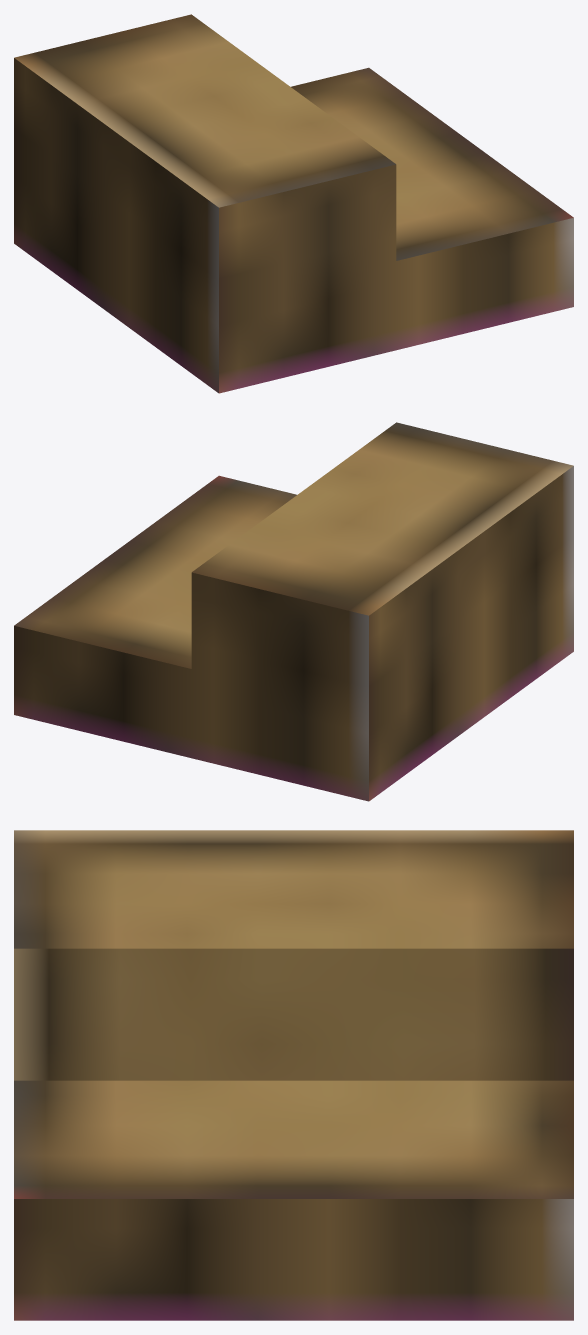
File: Tree_Destroy_Step8.fbx
3 renders of one model, top to bottom at view 1: azimuth 30°, elevation 25°; view 2: azimuth 150°, elevation 25°; view 3: azimuth 270°, elevation 25°, orthographic. The views are drawn at different scales.
Visible parts, largest first — view 1: Tree_Destroy_Step8; view 2: Tree_Destroy_Step8; view 3: Tree_Destroy_Step8.
Part boxes in pixels (bbox=[...]): Tree_Destroy_Step8: bbox=[14, 14, 573, 393]; Tree_Destroy_Step8: bbox=[14, 422, 573, 801]; Tree_Destroy_Step8: bbox=[14, 830, 573, 1320].
Size of the model in its own units: 25 by 12.5 by 25.
1 material, 1 textured.
